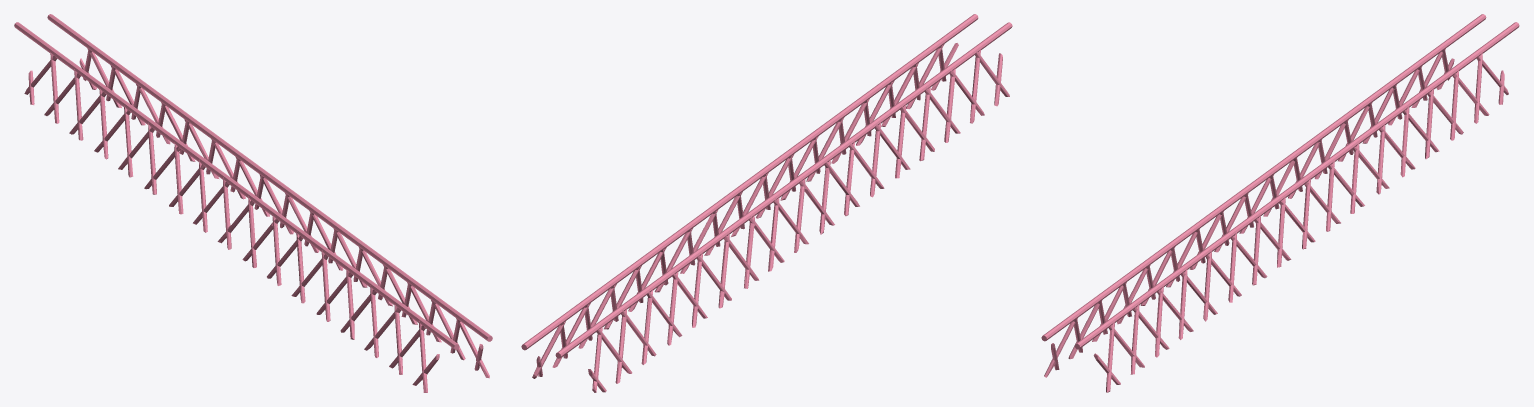
File: gate_railing.fbx
3 views of the same model, side by side, from view 1: azimuth 30°, elevation 25°; view 2: azimuth 150°, elevation 25°; view 3: azimuth 330°, elevation 25° (orthographic). The views are drawn at different scales.
Parts seen in each view (by area): view 1: PM3D_Cylinder3D1; view 2: PM3D_Cylinder3D1; view 3: PM3D_Cylinder3D1.
Boxes of the visible parts, left/top/right/bottom form: PM3D_Cylinder3D1: left=14, top=14, right=492, bottom=392; PM3D_Cylinder3D1: left=521, top=14, right=1012, bottom=392; PM3D_Cylinder3D1: left=1041, top=14, right=1519, bottom=392.
Bounding box in the file's own units: 0.3807 × 0.3164 × 4.36.
